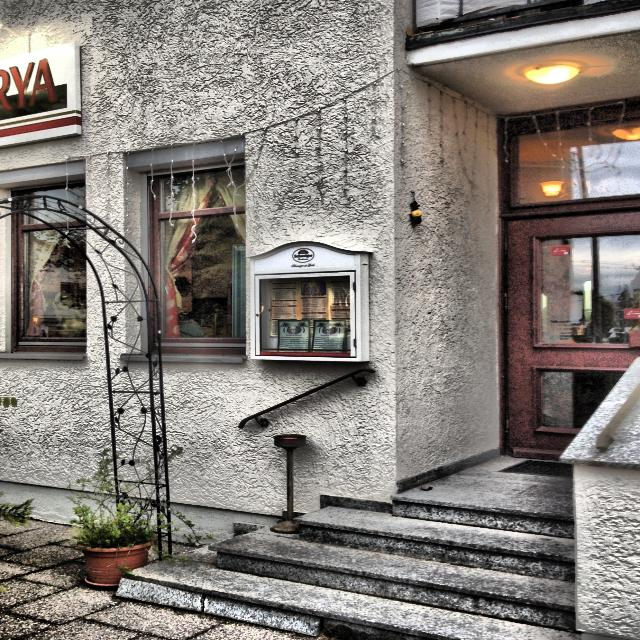escada: (111, 490, 574, 640)
